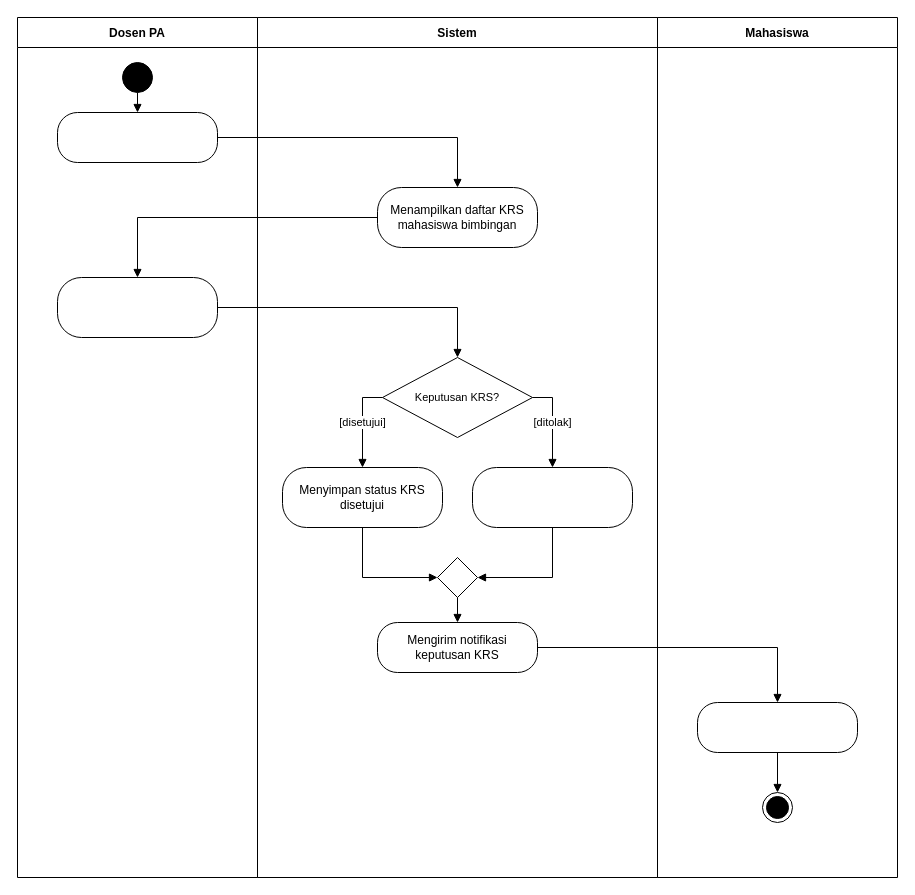
The diagram is 915 pixels wide and 895 high, and some of its shapes have lost their labels. Each missing label, with the box of its shape:
Melihat keputusan KRS: (696, 702, 858, 752)
Memeriksa dan menentukan keputusan KRS: (56, 276, 218, 338)
Memilih menu Verifikasi KRS: (56, 112, 218, 162)
Menyimpan status KRS ditolak beserta catatan: (472, 466, 632, 528)
